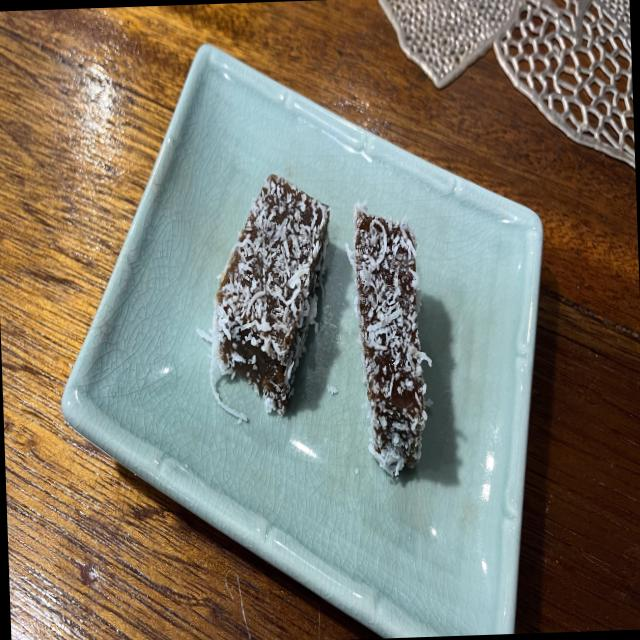kaswi: (199, 175, 329, 421), (346, 203, 432, 475)
